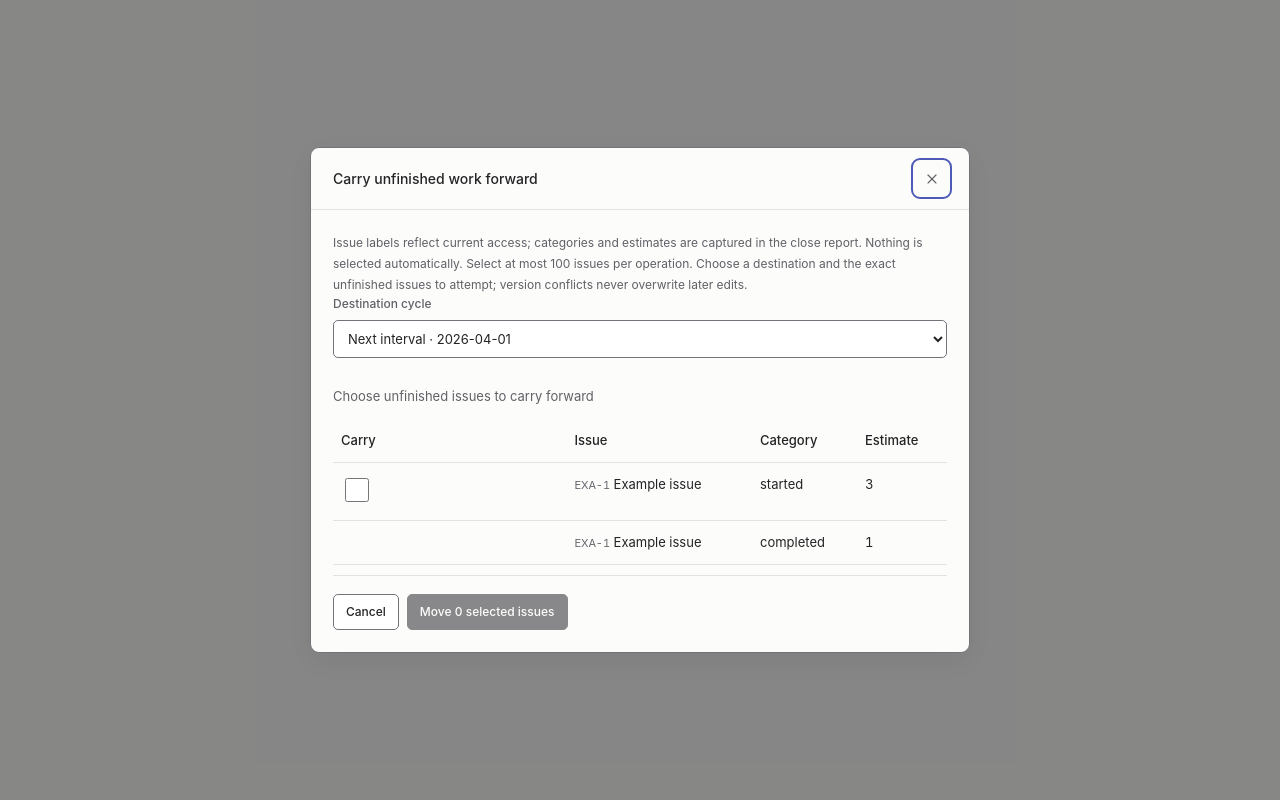
Test: cycle planning screens › starts carry-forward with no implicit selection and reports per-item conflicts
Expected: the button "Move 0 selected issues" is disabled, x1=407 y1=594 x2=568 y2=630
Expected: the number of checkboxes is 1, x1=345 y1=478 x2=369 y2=502
Select "Next interval · 2026-04-01" in the dropdown labelled "Destination cycle" at (640, 339), box x1=333 y1=320 x2=947 y2=358
Click the checkbox named "Carry issue unfinished" at (357, 490), box x1=345 y1=478 x2=369 y2=502
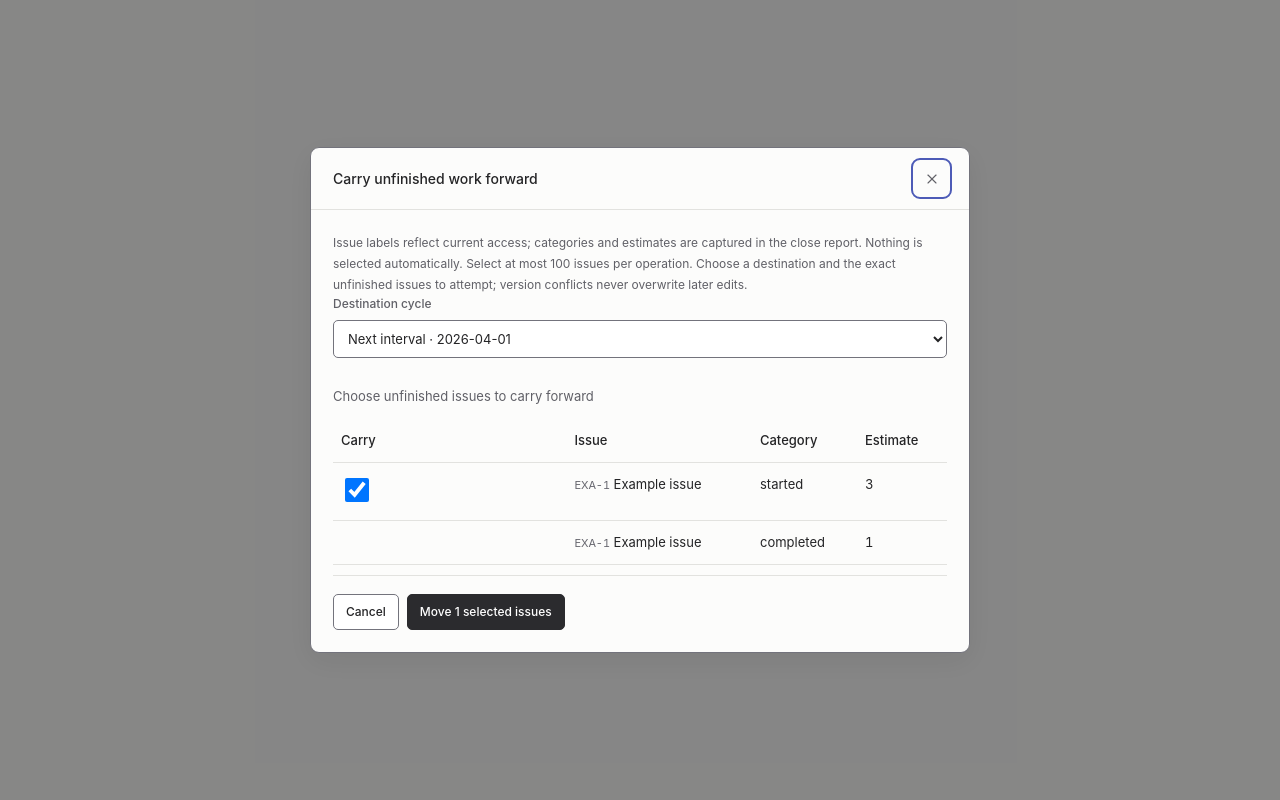
Click the button "Move 1 selected issues" at (486, 612), box x1=407 y1=594 x2=565 y2=630
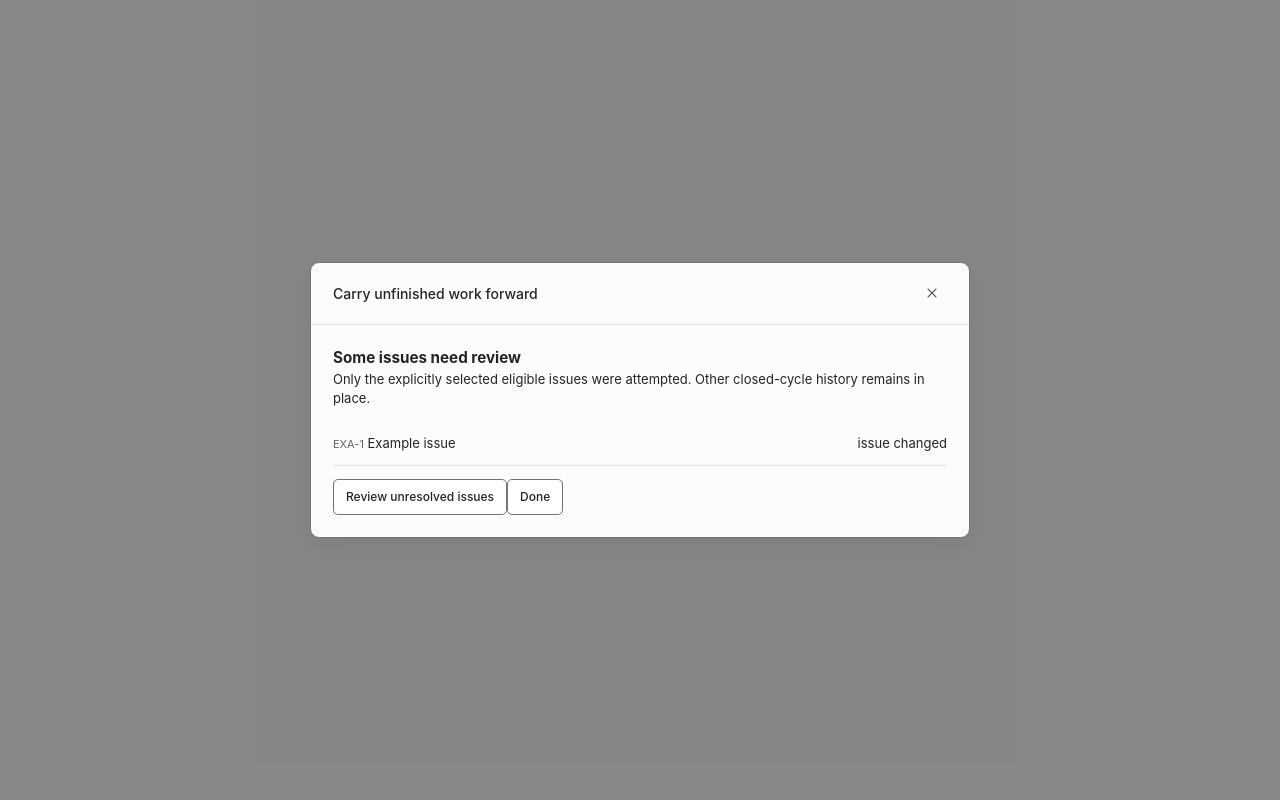
Now the text "issue changed" is shown, box x1=858 y1=434 x2=947 y2=453
Now the text "Some issues need review" is shown, box x1=333 y1=348 x2=521 y2=367
